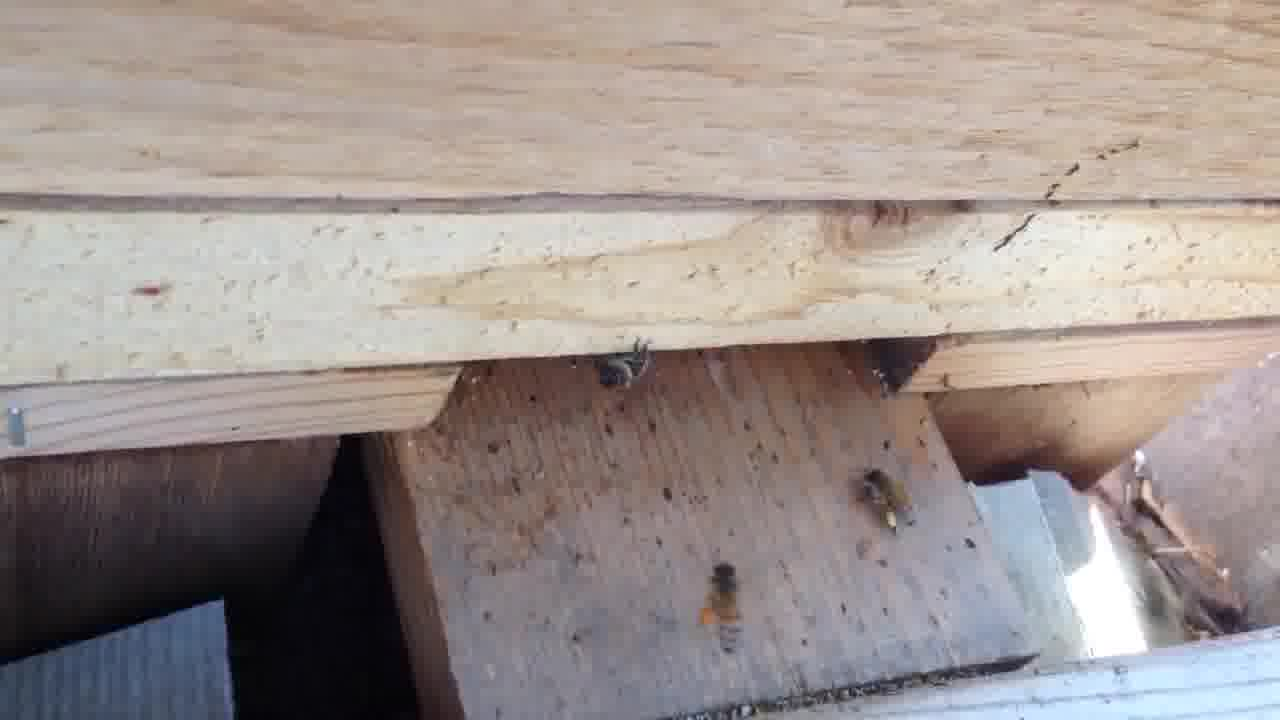pollen: (696, 561, 755, 654), (859, 462, 925, 536)
